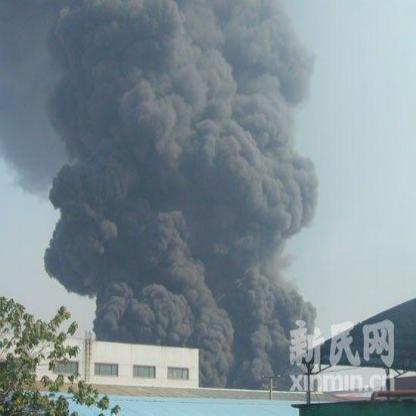smoke: (102, 1, 278, 324), (49, 6, 95, 145), (54, 172, 96, 281), (280, 163, 311, 225), (204, 329, 254, 367)
